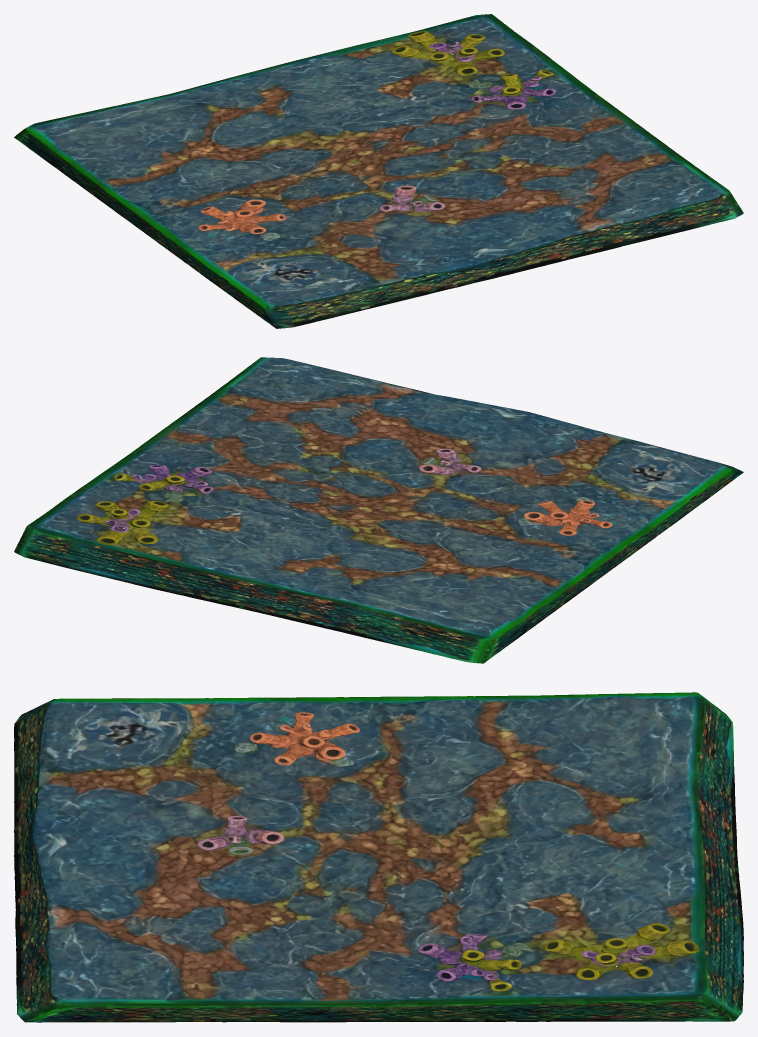
Rendered from OceanFloor_CoralCrack_A_UnrealReady.glb.
3 views of the same model, one above another, from view 1: azimuth 30°, elevation 25°; view 2: azimuth 150°, elevation 25°; view 3: azimuth 270°, elevation 25° (orthographic). The views are drawn at different scales.
Visible parts, largest first — view 1: OceanFloor_CoralCrack_A_UnrealReady; view 2: OceanFloor_CoralCrack_A_UnrealReady; view 3: OceanFloor_CoralCrack_A_UnrealReady.
Boxes of the visible parts, bbox=[...] form: OceanFloor_CoralCrack_A_UnrealReady: bbox=[14, 14, 743, 328]; OceanFloor_CoralCrack_A_UnrealReady: bbox=[14, 357, 743, 663]; OceanFloor_CoralCrack_A_UnrealReady: bbox=[14, 692, 743, 1022].
Bounding box in the file's own units: 6 × 0.24 × 6.
Materials: 1 (1 with a texture image).
